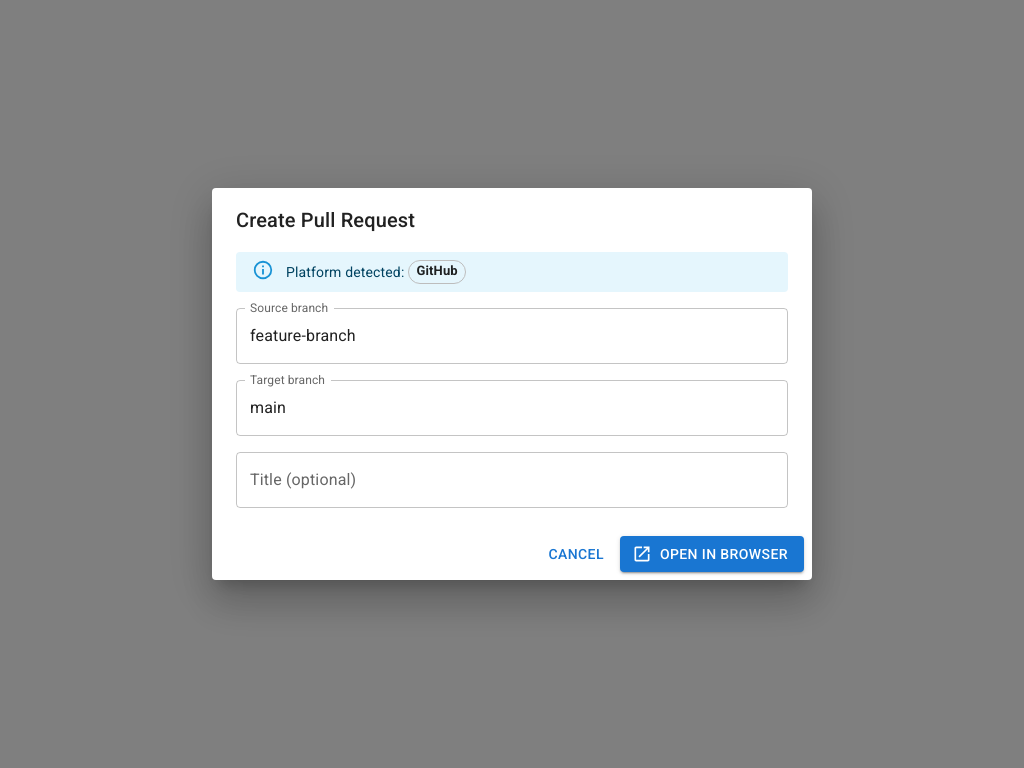
shows error message when createPR fails
Expected: the field labelled "Source branch" holds "feature-branch", 236,308 -> 788,364
Click the button "Open in Browser".
click(712, 554)  # box 620,536 -> 804,572
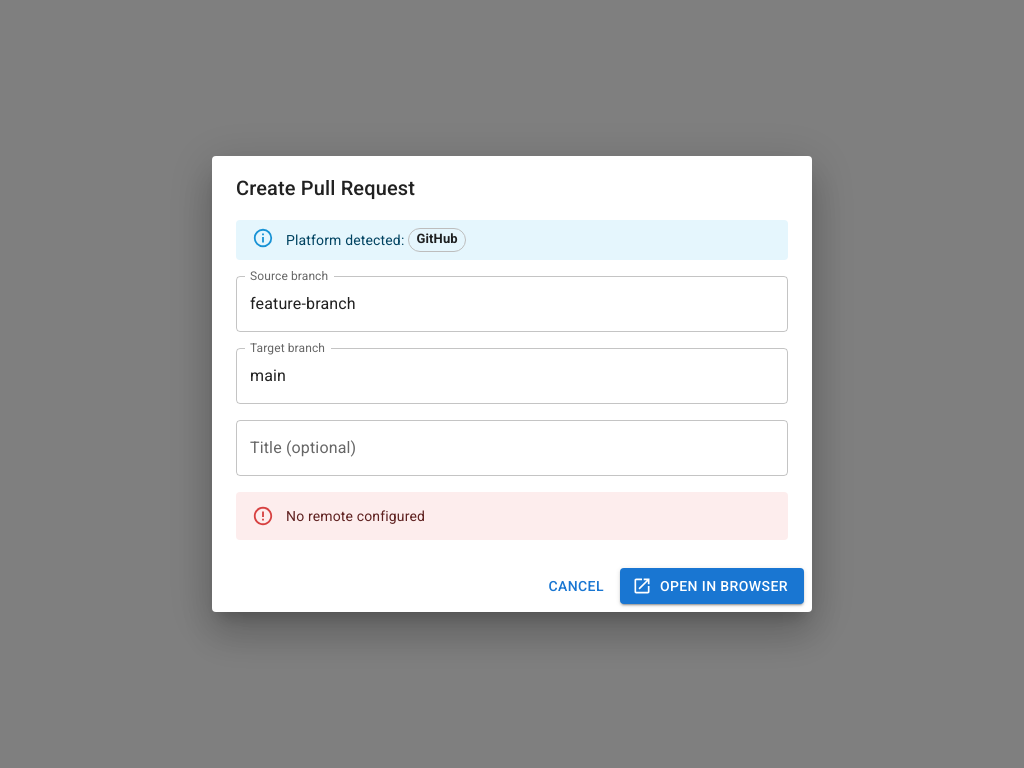
Expected: the text "No remote configured" is shown, 286,508 -> 425,524
